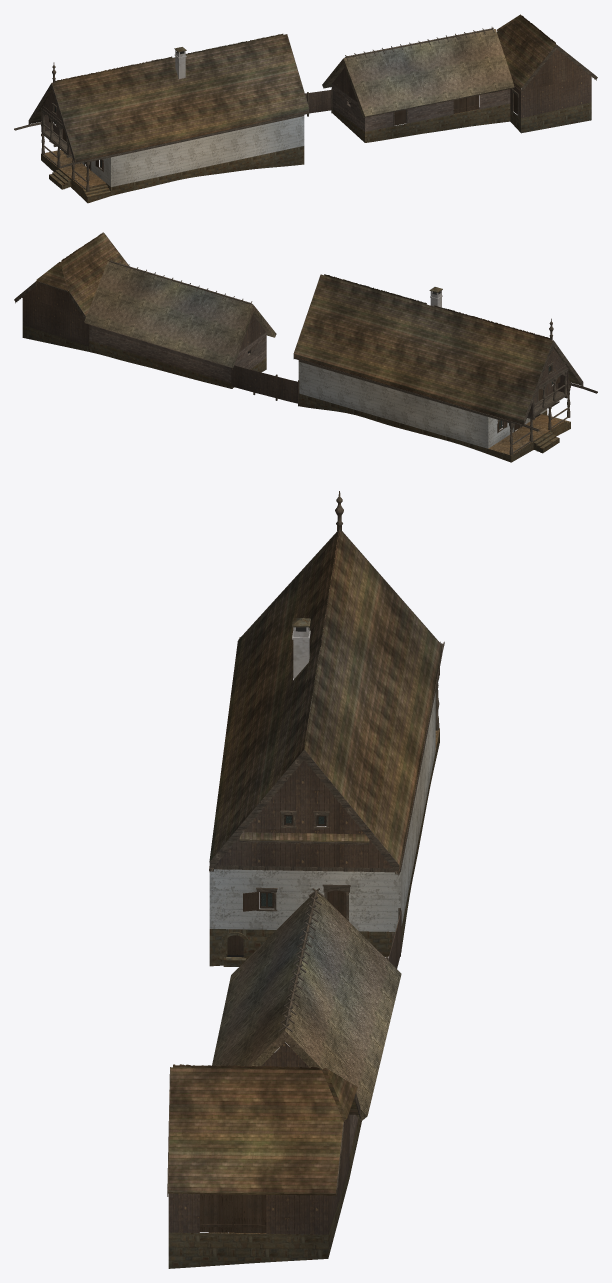
File: dom18_lekki.glb
3 views of the same model, one above another, from view 1: azimuth 30°, elevation 25°; view 2: azimuth 150°, elevation 25°; view 3: azimuth 270°, elevation 25° (orthographic). The views are drawn at different scales.
Parts seen in each view (by area): view 1: Dom18_lekki; view 2: Dom18_lekki; view 3: Dom18_lekki.
Boxes of the visible parts, x1,y1,x2,y2 form: Dom18_lekki: [14, 14, 597, 203]; Dom18_lekki: [14, 232, 597, 462]; Dom18_lekki: [167, 491, 444, 1268].
Bounding box in the file's own units: 54.97 × 14.83 × 12.64.
13 materials, 12 textured.
